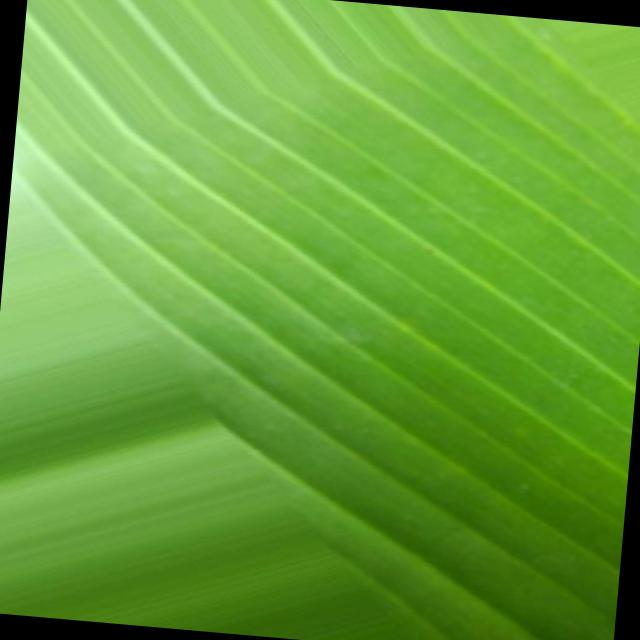Banana_Healthy: (160, 45, 618, 452)
